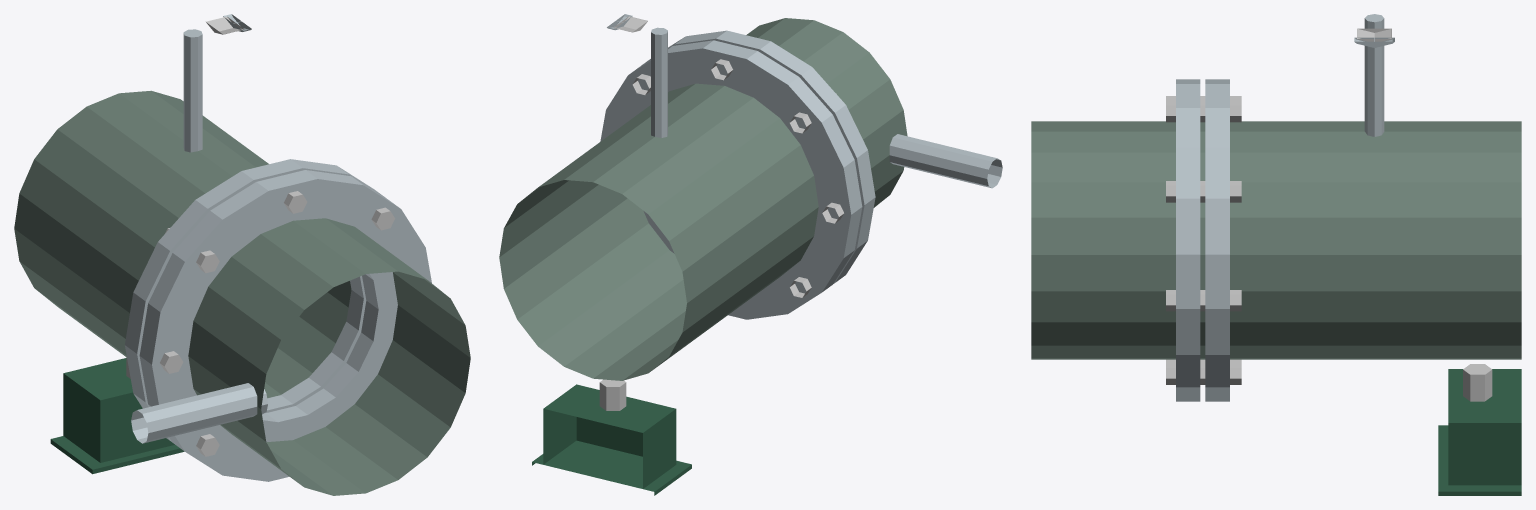
The model's file is cell_43.obj.
3 renders of one model, left to right at view 1: azimuth 30°, elevation 25°; view 2: azimuth 150°, elevation 25°; view 3: azimuth 270°, elevation 25°, orthographic. The views are drawn at different scales.
Bounding box in the file's own units: 0.83 × 1 × 1.
